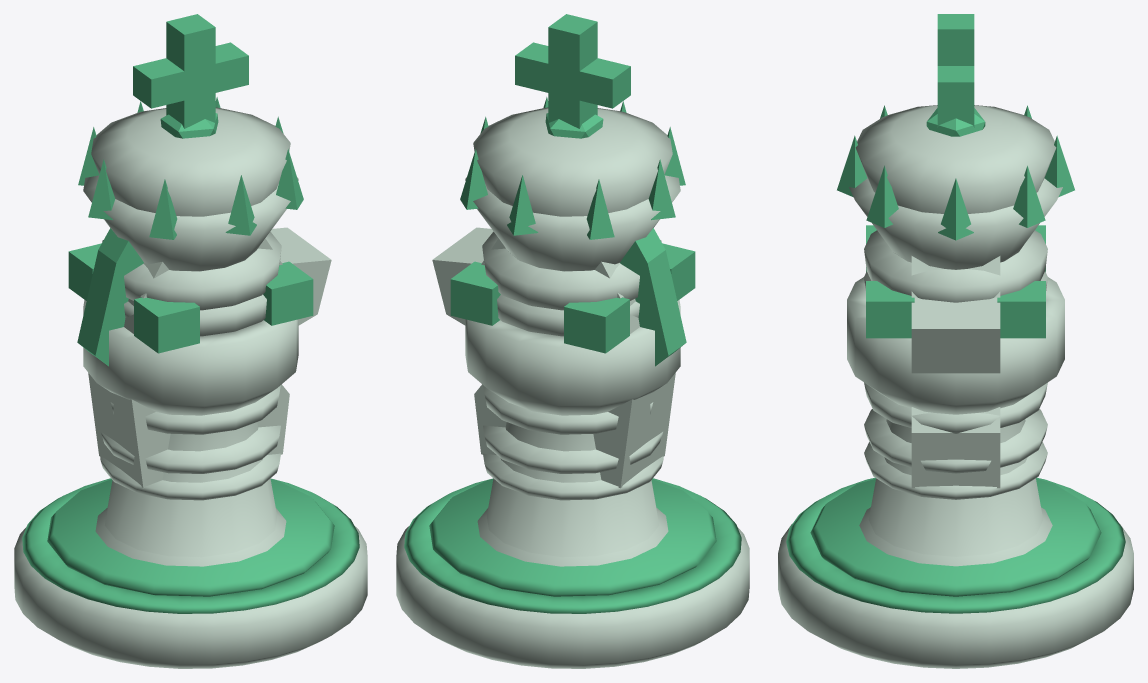
File: jade.glb
3 views of the same model, side by side, from view 1: azimuth 30°, elevation 25°; view 2: azimuth 150°, elevation 25°; view 3: azimuth 270°, elevation 25° (orthographic).
Visible parts, largest first — view 1: K, disc, R, B, N, Q, P; view 2: K, disc, R, B, N, Q, P; view 3: K, disc, R, B, N, Q, P.
Part boxes in pixels (left/top/right/bottom): K: left=91, top=14, right=290, bottom=557; disc: left=14, top=478, right=367, bottom=668; R: left=68, top=243, right=313, bottom=434; B: left=47, top=251, right=334, bottom=596; N: left=77, top=227, right=331, bottom=500; Q: left=78, top=97, right=303, bottom=336; P: left=101, top=425, right=280, bottom=473; K: left=473, top=14, right=672, bottom=557; disc: left=396, top=478, right=749, bottom=668; R: left=450, top=243, right=695, bottom=434; B: left=429, top=251, right=716, bottom=596; N: left=432, top=227, right=686, bottom=500; Q: left=460, top=97, right=685, bottom=336; P: left=483, top=425, right=662, bottom=473; K: left=855, top=14, right=1056, bottom=556; disc: left=778, top=477, right=1133, bottom=668; R: left=847, top=225, right=1064, bottom=433; B: left=810, top=253, right=1101, bottom=596; N: left=864, top=256, right=1047, bottom=499; Q: left=837, top=105, right=1074, bottom=290; P: left=864, top=409, right=1047, bottom=473.
Size of the model in its own units: 0.88 by 1.58 by 0.88.
